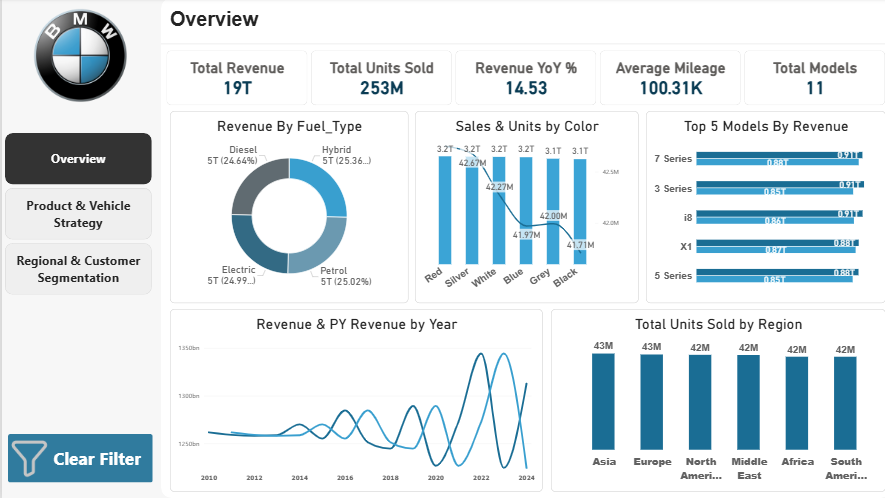

The page's visual inventory and layout, read from the dashboard file:
{"tool":"powerbi","page":{"name":"Overview","canvas":[1920,1080],"ordinal":0},"visuals":[{"type":"shape","box":[0,0,1920.2,1080],"z":0},{"type":"shape","box":[342.5,0,1577.5,1080],"z":1000},{"type":"image","box":[11.2,22.5,317.5,205],"z":2000},{"type":"shape","box":[342.5,22.5,1577.5,155],"z":3000},{"type":"actionButton","title":"Overview","box":[362.5,22.5,227.5,67.5],"z":4000},{"type":"cardVisual","fields":{"Data":["Table.Total Revenue","Table.Total Units Sold","Table.Revenue YoY Growth %","Table.Average Mileage","Table.Total Models"]},"box":[342.5,102.5,1577.5,142.5],"z":5000},{"type":"donutChart","title":"Revenue By Fuel_Type","fields":{"Category":["BMW_Car_Sales_Classification.Fuel_Type"],"Y":["Table.Total Revenue"]},"box":[362.5,245,515,415],"z":6000},{"type":"lineClusteredColumnComboChart","title":" Sales & Units by Color","fields":{"Category":["BMW_Car_Sales_Classification.Color"],"Y":["BMW_Car_Sales_Classification.Total Sales"],"Y2":["Table.Total Units Sold"]},"box":[892.5,245,482.5,415],"z":7000},{"type":"clusteredBarChart","title":"Top 5 Models By Revenue","fields":{"Category":["BMW_Car_Sales_Classification.Model"],"Series":["BMW_Car_Sales_Classification.Sales_Classification"],"Y":["Table.Total Revenue"]},"box":[1390,245,517.5,415],"z":8000},{"type":"lineChart","title":"Revenue & PY Revenue by Year","fields":{"Category":["BMW_Car_Sales_Classification.Year"],"Y":["Table.Total Revenue","Table.Prior Year Revenue"]},"box":[362.5,672.5,805,395],"z":9000},{"type":"clusteredColumnChart","fields":{"Category":["BMW_Car_Sales_Classification.Region"],"Y":["Table.Total Units Sold"]},"box":[1185,672.5,722.5,395],"z":10000},{"type":"pageNavigator","box":[7.5,292.5,317.5,350],"z":11000},{"type":"actionButton","box":[12.5,942.5,312.5,105],"z":12000},{"type":"image","box":[7.5,942.5,105,105],"z":13000}]}

Visuals, with their boxes in screenshot pixels (x1, y1, x2, y2), scaled from the page's 1920x1080 canvas onto the 885x498 screenshot:
shape: box(0, 0, 884, 497)
shape: box(158, 0, 884, 497)
image: box(5, 10, 152, 105)
shape: box(158, 10, 884, 82)
"Overview" actionButton: box(167, 10, 272, 42)
cardVisual - Table.Total Revenue x Table.Total Units Sold: box(158, 47, 884, 113)
"Revenue By Fuel_Type" donutChart: box(167, 113, 404, 304)
" Sales & Units by Color" lineClusteredColumnComboChart: box(411, 113, 634, 304)
"Top 5 Models By Revenue" clusteredBarChart: box(641, 113, 879, 304)
"Revenue & PY Revenue by Year" lineChart: box(167, 310, 538, 492)
clusteredColumnChart - BMW_Car_Sales_Classification.Region x Table.Total Units Sold: box(546, 310, 879, 492)
pageNavigator: box(3, 135, 150, 296)
actionButton: box(6, 435, 150, 483)
image: box(3, 435, 52, 483)
